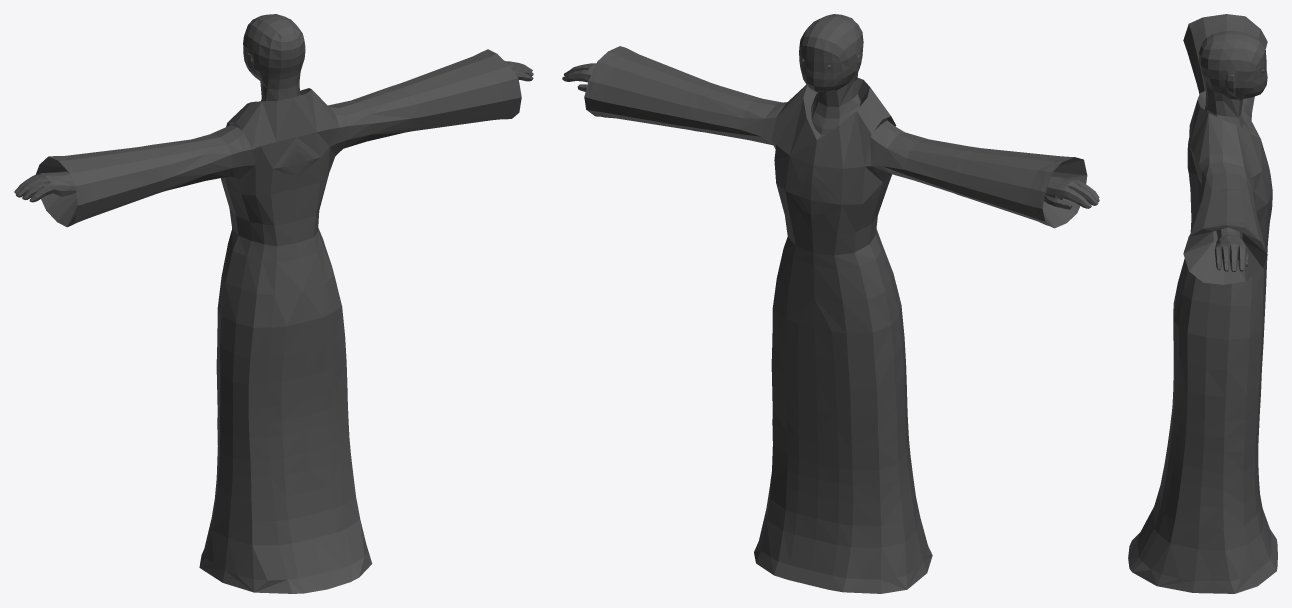
Rendered from CharSkyNPC_Body_FemaleCivilian.glb.
3 views of the same model, side by side, from view 1: azimuth 30°, elevation 25°; view 2: azimuth 150°, elevation 25°; view 3: azimuth 270°, elevation 25° (orthographic). The views are drawn at different scales.
Parts seen in each view (by area): view 1: CharSkyNPC_Body_FemaleCivilian; view 2: CharSkyNPC_Body_FemaleCivilian; view 3: CharSkyNPC_Body_FemaleCivilian.
Boxes of the visible parts, <box> form: CharSkyNPC_Body_FemaleCivilian: <box>14,14,533,593</box>; CharSkyNPC_Body_FemaleCivilian: <box>562,14,1099,593</box>; CharSkyNPC_Body_FemaleCivilian: <box>1128,14,1277,593</box>.
Bounding box in the file's own units: 14.15 × 13.95 × 3.61.
1 material, 1 textured.
